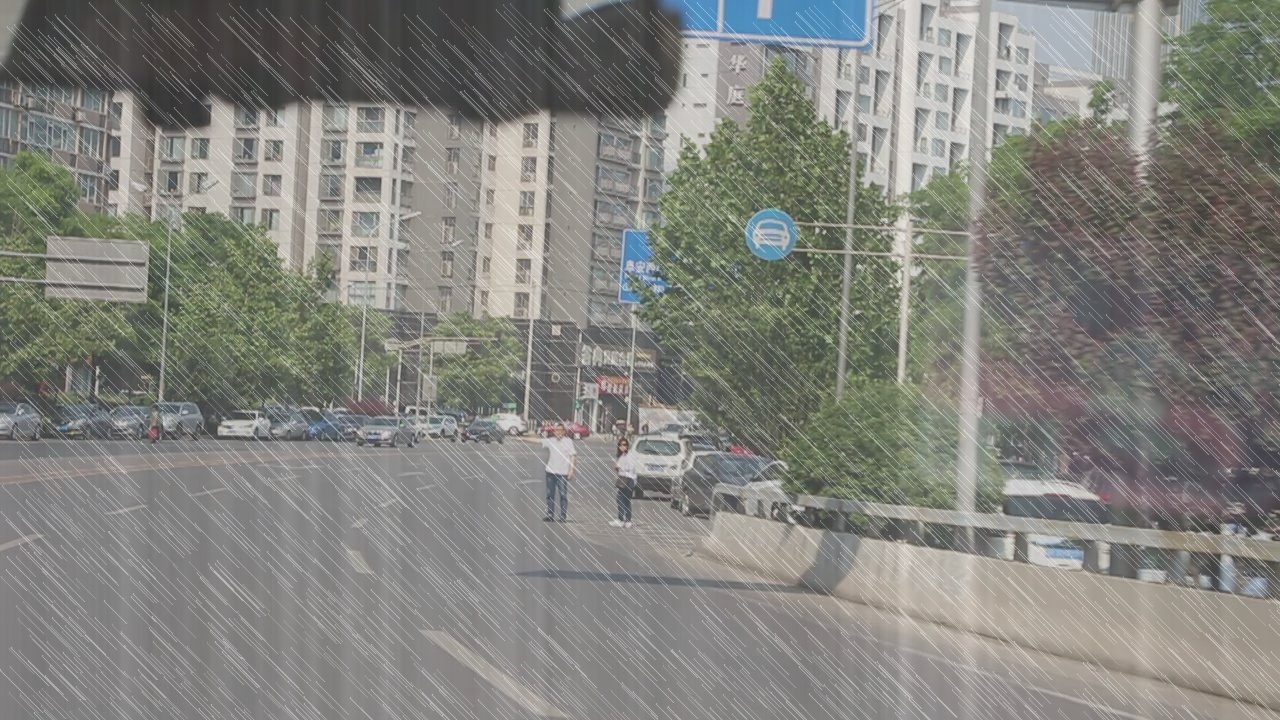Informative Signs: (743, 206, 800, 264)
